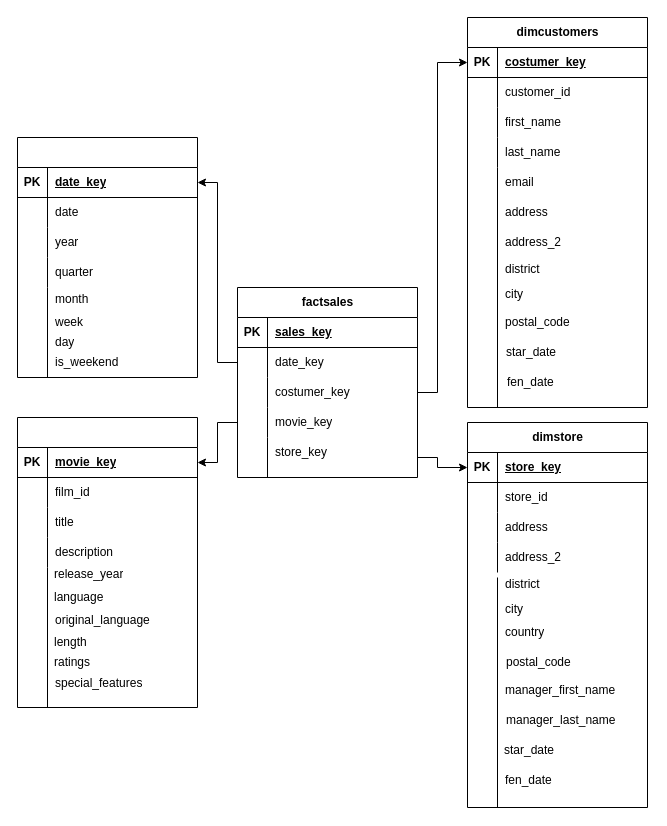
The diagram is 667 pixels wide and 826 high, and some of its shapes have lost their labels. Here are the shapes that lost their labels. From the top down, the box of each, then its label:
(16, 136, 198, 378): dimdate
(16, 416, 198, 708): dimmovie
